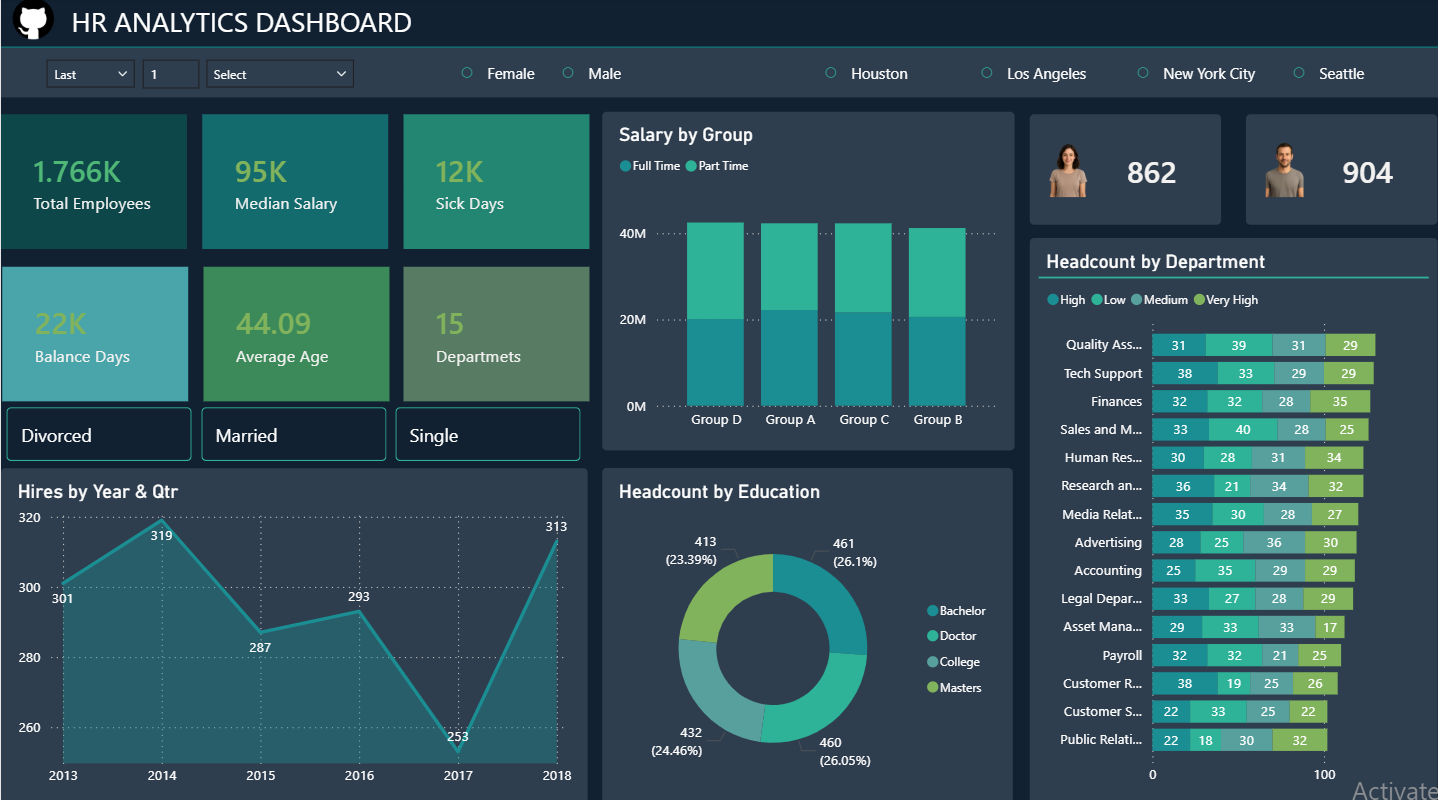

What the dashboard file says about the page in this screenshot:
{"tool":"powerbi","page":{"name":"Overview","canvas":[1280,720],"ordinal":0},"visuals":[{"type":"barChart","title":"Headcount by Department","fields":{"Category":["Human Resources.Departmets"],"Y":["CountNonNull(Human Resources.Last Name)"],"Series":["Human Resources.Job Satisfaction"]},"box":[916.6,213.5,363.2,506.8],"z":0},{"type":"columnChart","title":"Salary by Group","fields":{"Category":["Human Resources.Groups"],"Y":["Sum(Human Resources.Salary)"],"Series":["Human Resources.Job Type"]},"box":[535,101.8,366.9,301.8],"z":1000},{"type":"textbox","box":[57.7,0,337.4,51.5],"z":2000},{"type":"shape","box":[0,36.8,1279.8,14.7],"z":3000},{"type":"donutChart","title":"Headcount by Education","fields":{"Category":["Human Resources.Education"],"Y":["CountNonNull(Human Resources.Last Name)"]},"box":[535,418.4,365.6,301.8],"z":4000},{"type":"areaChart","title":"Hires by Year & Qtr","fields":{"Category":["Human Resources.Hire Date.Variation.Date Hierarchy.Year","Human Resources.Hire Date.Variation.Date Hierarchy.Quarter"],"Y":["CountNonNull(Human Resources.Last Name)"]},"box":[0,418.4,522.7,301.8],"z":5000},{"type":"shape","box":[0,44.2,1279.8,44.2],"z":6000},{"type":"cardVisual","title":"Salary by Groups","fields":{"Data":["CountNonNull(Human Resources.Last Name)"]},"box":[0,103.1,165.6,120.2],"z":7000},{"type":"cardVisual","title":"Salary by Groups","fields":{"Data":["Median(Human Resources.Salary)"]},"box":[179.1,103.1,165.6,120.2],"z":8000},{"type":"cardVisual","title":"Salary by Groups","fields":{"Data":["Sum(Human Resources.Sick Days)"]},"box":[358.3,103.1,165.6,120.2],"z":9000},{"type":"cardVisual","title":"Salary by Groups","fields":{"Data":["Sum(Human Resources.Balance Days)"]},"box":[1.2,239.3,165.6,120.2],"z":10000},{"type":"cardVisual","title":"Salary by Groups","fields":{"Data":["Avg(Human Resources.Age)"]},"box":[180.4,239.3,165.6,120.2],"z":11000},{"type":"cardVisual","title":"Salary by Groups","fields":{"Data":["Count(Human Resources.Departmets)"]},"box":[358.3,239.3,165.6,120.2],"z":12000},{"type":"cardVisual","title":"Salary by Groups","fields":{"Data":["CountNonNull(Human Resources.Last Name)"]},"box":[916.6,103.1,170.6,98.2],"z":13000},{"type":"image","box":[916.6,126.4,68.7,50.3],"z":14000},{"type":"cardVisual","title":"Salary by Groups","fields":{"Data":["CountNonNull(Human Resources.Last Name)"]},"box":[1109.2,103.1,170.6,98.2],"z":15000},{"type":"image","box":[1109.2,126.4,68.7,50.3],"z":16000},{"type":"advancedSlicerVisual","fields":{"Values":["Human Resources.Marital Status"]},"box":[0,359.5,523.9,58.9],"z":17000},{"type":"advancedSlicerVisual","fields":{"Values":["Human Resources.Business Unit"]},"box":[719,44.2,560.7,44.2],"z":18000},{"type":"slicer","fields":{"Values":["Human Resources.Hire Date"]},"box":[28.2,44.2,300.6,44.2],"z":19000},{"type":"advancedSlicerVisual","fields":{"Values":["Human Resources.Gender"]},"box":[395.1,44.2,182.8,44.2],"z":20000},{"type":"image","box":[0,0,57.7,36.8],"z":21000}]}

Visuals, with their boxes in screenshot pixels (x1, y1, x2, y2), scaled from the page's 1280x720 canvas onto the 1438x800 screenshot:
"Headcount by Department" barChart: Rect(1030, 237, 1437, 799)
"Salary by Group" columnChart: Rect(601, 113, 1013, 448)
textbox: Rect(65, 0, 444, 57)
shape: Rect(0, 41, 1437, 57)
"Headcount by Education" donutChart: Rect(601, 465, 1012, 799)
"Hires by Year & Qtr" areaChart: Rect(0, 465, 587, 799)
shape: Rect(0, 49, 1437, 98)
"Salary by Groups" cardVisual: Rect(0, 115, 186, 248)
"Salary by Groups" cardVisual: Rect(201, 115, 387, 248)
"Salary by Groups" cardVisual: Rect(403, 115, 589, 248)
"Salary by Groups" cardVisual: Rect(1, 266, 187, 399)
"Salary by Groups" cardVisual: Rect(203, 266, 389, 399)
"Salary by Groups" cardVisual: Rect(403, 266, 589, 399)
"Salary by Groups" cardVisual: Rect(1030, 115, 1221, 224)
image: Rect(1030, 140, 1107, 196)
"Salary by Groups" cardVisual: Rect(1246, 115, 1437, 224)
image: Rect(1246, 140, 1323, 196)
advancedSlicerVisual - Human Resources.Marital Status: Rect(0, 399, 589, 465)
advancedSlicerVisual - Human Resources.Business Unit: Rect(808, 49, 1437, 98)
slicer - Human Resources.Hire Date: Rect(32, 49, 369, 98)
advancedSlicerVisual - Human Resources.Gender: Rect(444, 49, 649, 98)
image: Rect(0, 0, 65, 41)
